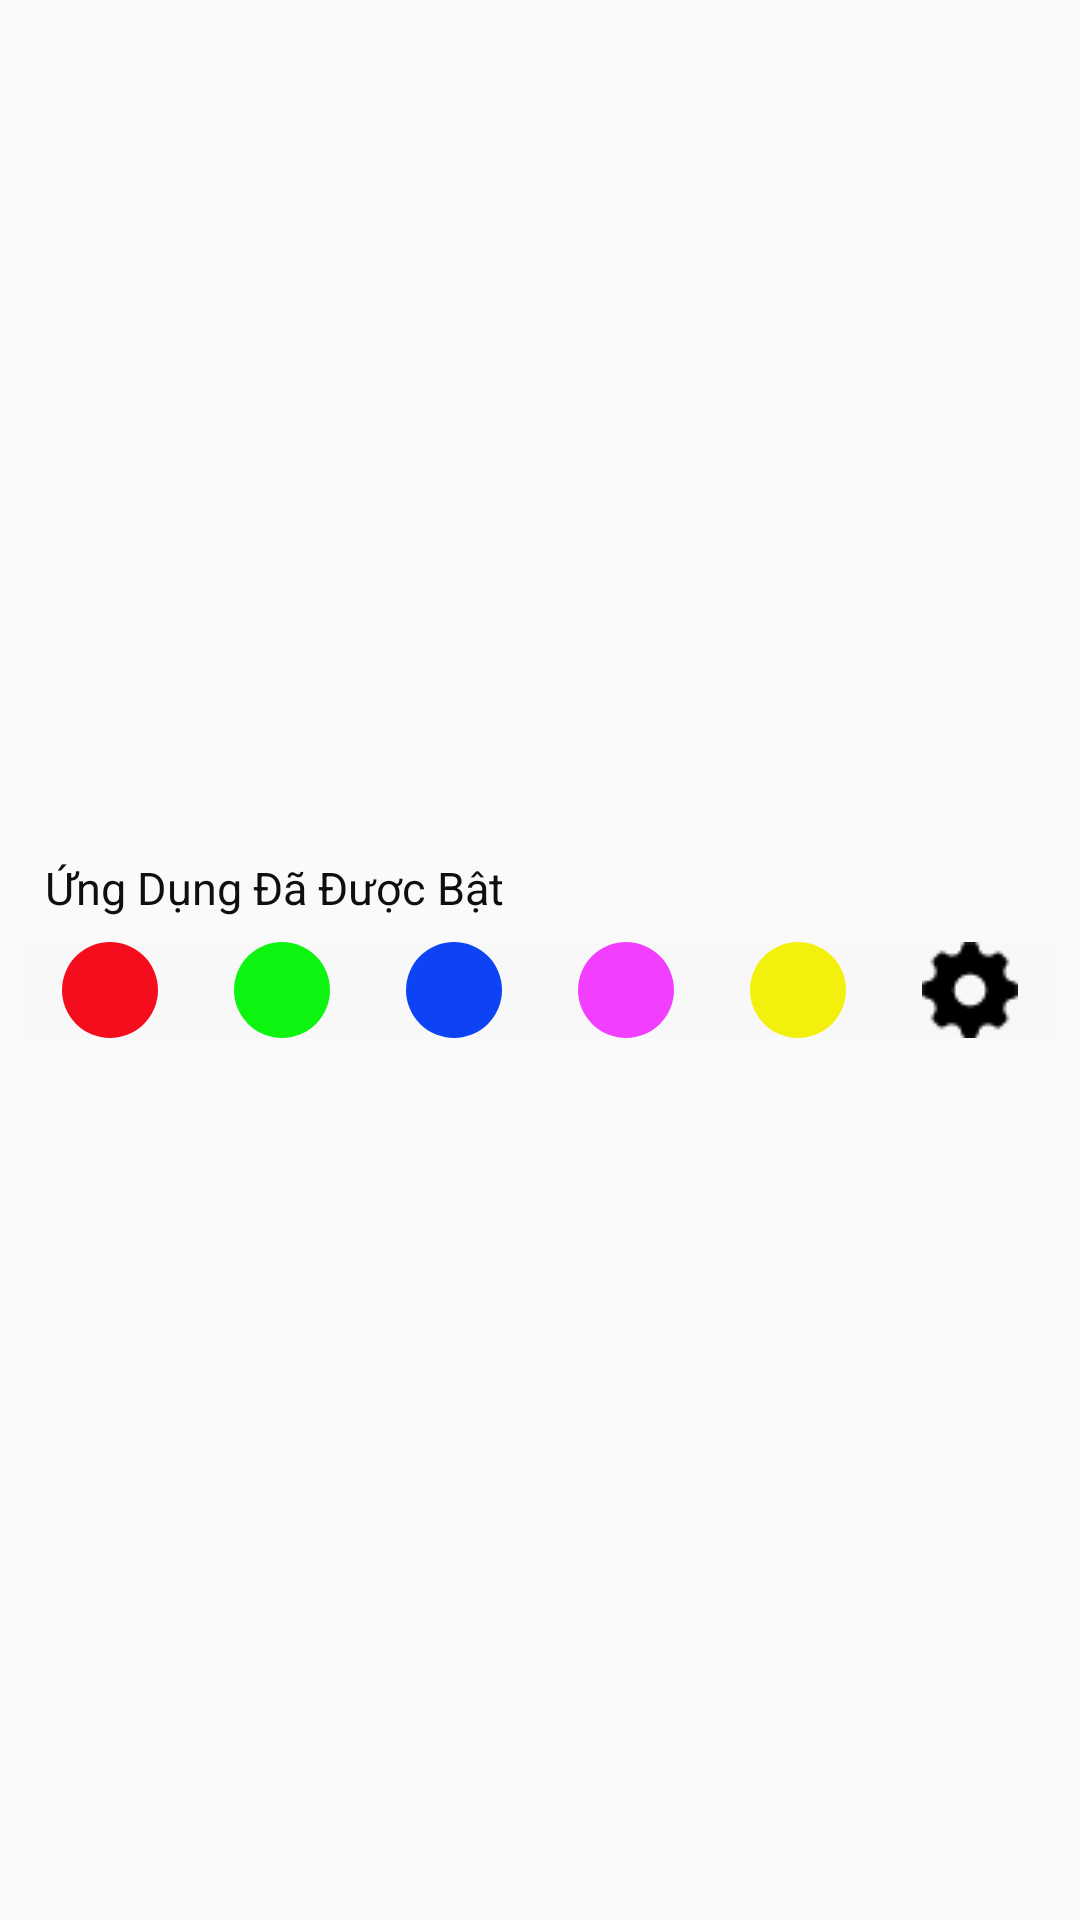

Icons on this 1080*1920 Android screen, each with the point to tap as (x=x, y=y):
settings work tool: (x=970, y=990)
